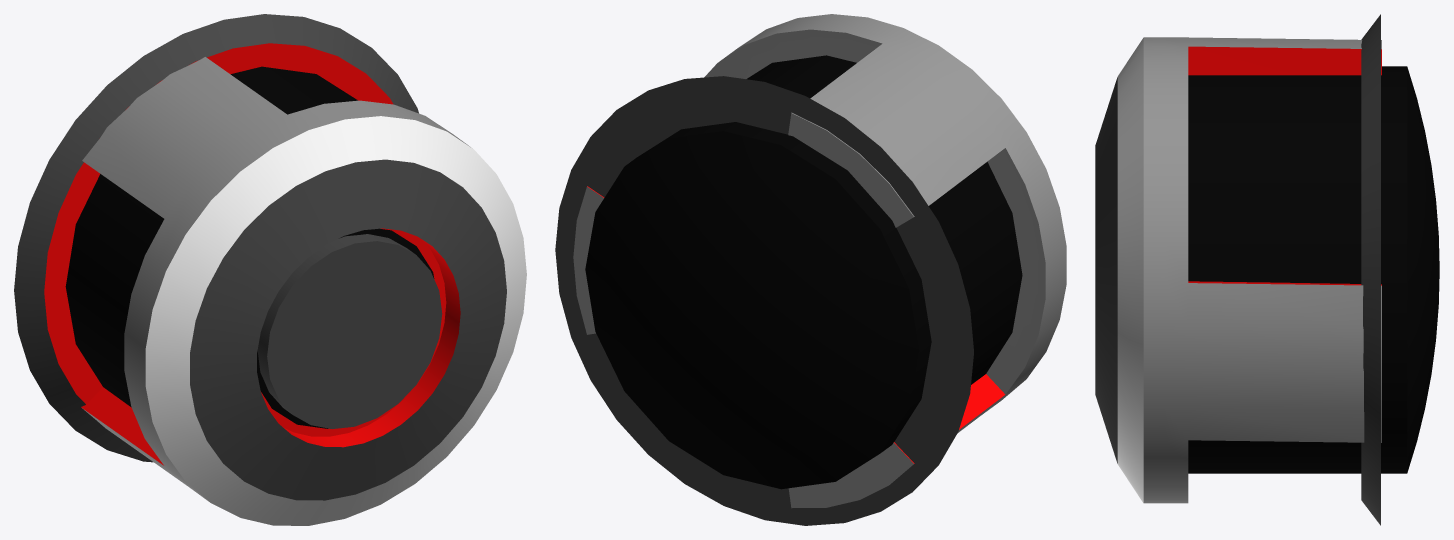
The model's file is vehiclePlant.obj.
3 renders of one model, left to right at view 1: azimuth 30°, elevation 25°; view 2: azimuth 150°, elevation 25°; view 3: azimuth 270°, elevation 25°, orthographic. The views are drawn at different scales.
Parts seen in each view (by area): view 1: Cylinder025, Tube001, Cylinder021, OilTank001; view 2: OilTank001, Cylinder025, Tube001; view 3: Cylinder025, OilTank001, Tube001.
Boxes of the visible parts, bbox=[...] form: Cylinder025: bbox=[81, 57, 526, 525]; Tube001: bbox=[14, 14, 418, 462]; Cylinder021: bbox=[257, 234, 442, 428]; OilTank001: bbox=[65, 66, 434, 428]; OilTank001: bbox=[585, 55, 1022, 489]; Cylinder025: bbox=[573, 14, 1066, 508]; Tube001: bbox=[555, 76, 973, 525]; Cylinder025: bbox=[1095, 37, 1381, 503]; OilTank001: bbox=[1188, 66, 1439, 473]; Tube001: bbox=[1361, 14, 1380, 525].
Bounding box in the file's own units: 1.58 × 1.58 × 1.06.
